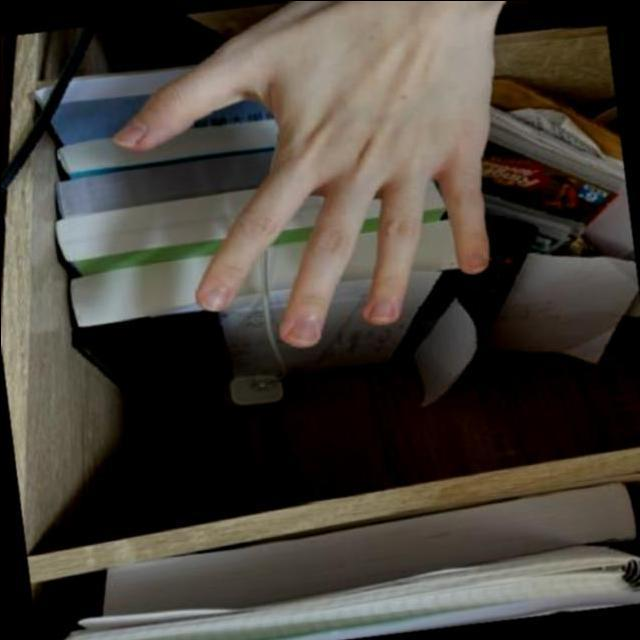hand: (112, 0, 506, 349)
